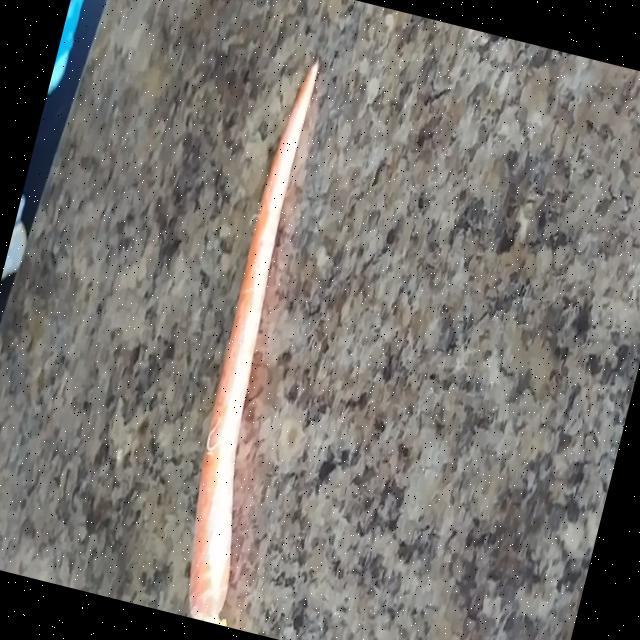carrot: (189, 60, 318, 626)
